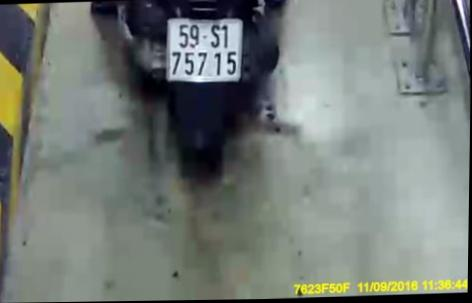LP: (161, 14, 246, 87)
